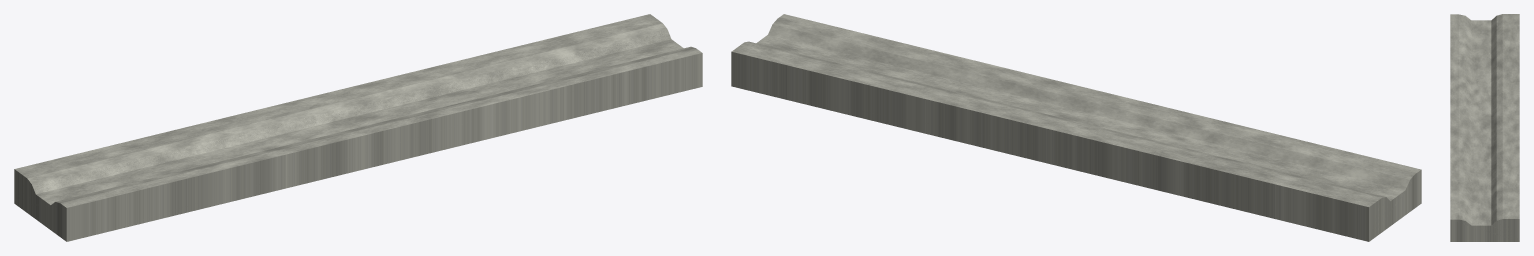
The model's file is PZ_Drain_2m.glb.
The picture shows the model from 3 angles, left to right: view 1: azimuth 30°, elevation 25°; view 2: azimuth 150°, elevation 25°; view 3: azimuth 270°, elevation 25°; orthographic projection. The views are drawn at different scales.
Visible parts, largest first — view 1: PZ_Drain_2m__Recessed_Concrete_Grain; view 2: PZ_Drain_2m__Recessed_Concrete_Grain; view 3: PZ_Drain_2m__Recessed_Concrete_Grain.
Boxes of the visible parts, x1,y1,x2,y2 form: PZ_Drain_2m__Recessed_Concrete_Grain: [14, 14, 702, 241]; PZ_Drain_2m__Recessed_Concrete_Grain: [731, 14, 1421, 241]; PZ_Drain_2m__Recessed_Concrete_Grain: [1450, 14, 1519, 241].
Size of the model in its own units: 2 by 0.104 by 0.285.
Materials: 1 (1 with a texture image).
